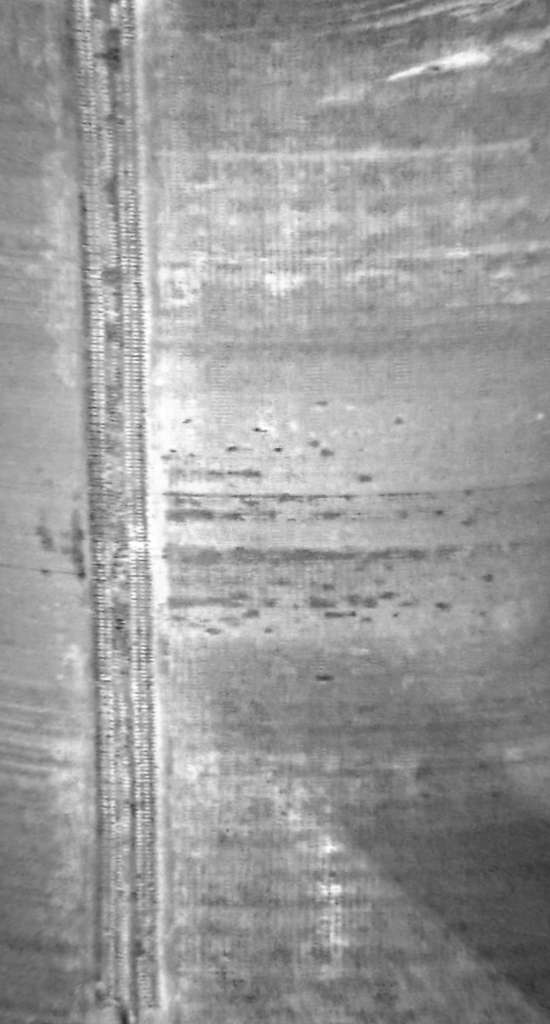splice: (62, 2, 173, 1024)
